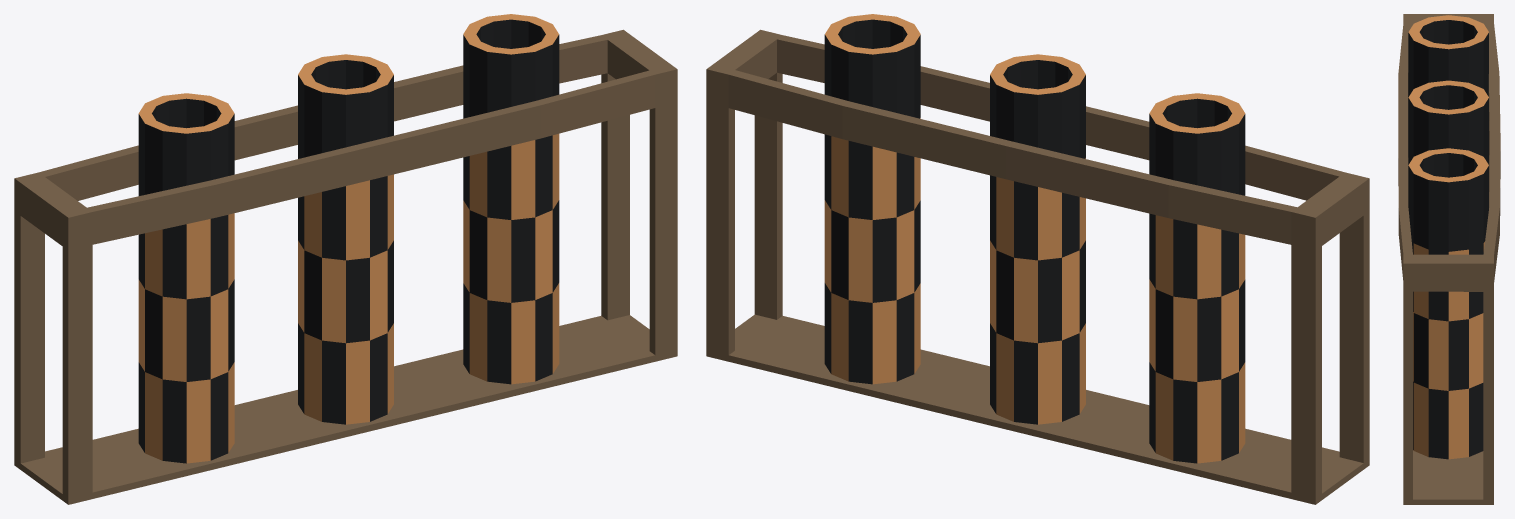
Rendered from Mortar_6inch_DummyMortarRack.fbx.
3 renders of one model, left to right at view 1: azimuth 30°, elevation 25°; view 2: azimuth 150°, elevation 25°; view 3: azimuth 270°, elevation 25°, orthographic. The views are drawn at different scales.
Visible parts, largest first — view 1: Mortar_3inch_DummyMortarRack; view 2: Mortar_3inch_DummyMortarRack; view 3: Mortar_3inch_DummyMortarRack.
Part boxes in pixels (x1=…): Mortar_3inch_DummyMortarRack: x1=14, y1=14, x2=677, y2=504; Mortar_3inch_DummyMortarRack: x1=706, y1=14, x2=1369, y2=504; Mortar_3inch_DummyMortarRack: x1=1398, y1=14, x2=1500, y2=504.
Bounding box in the file's own units: 154 × 81.24 × 26.64.
